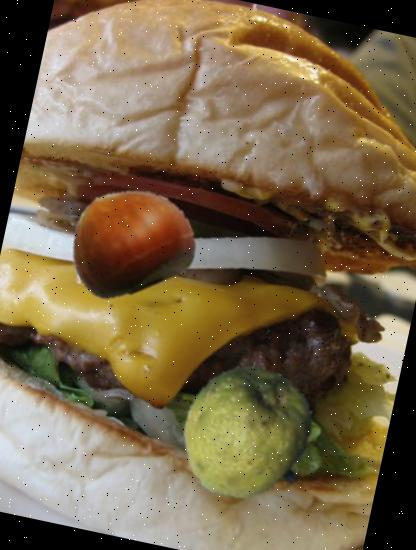Limes: (167, 354, 329, 517)
Nut: (55, 166, 202, 313)
